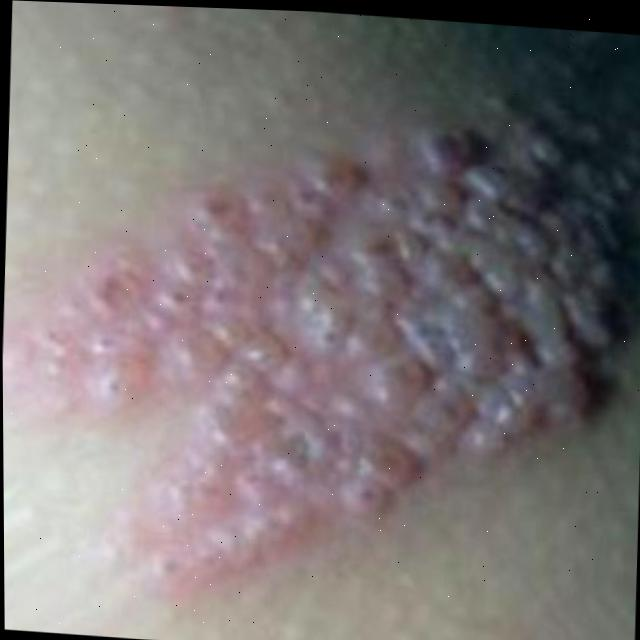Shingles: (4, 67, 640, 635)
